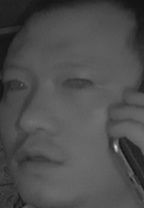eye: (61, 72, 94, 93), (5, 76, 31, 94)
mouth: (14, 143, 71, 179)
